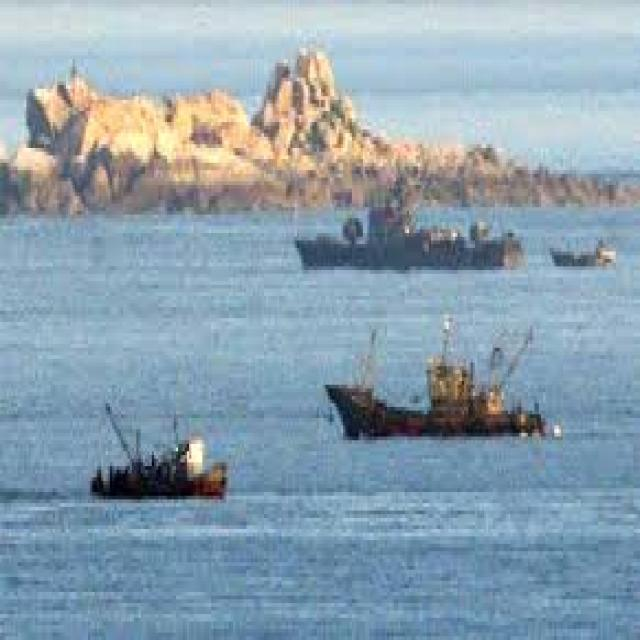Ship: (307, 312, 576, 475), (85, 382, 239, 515)
